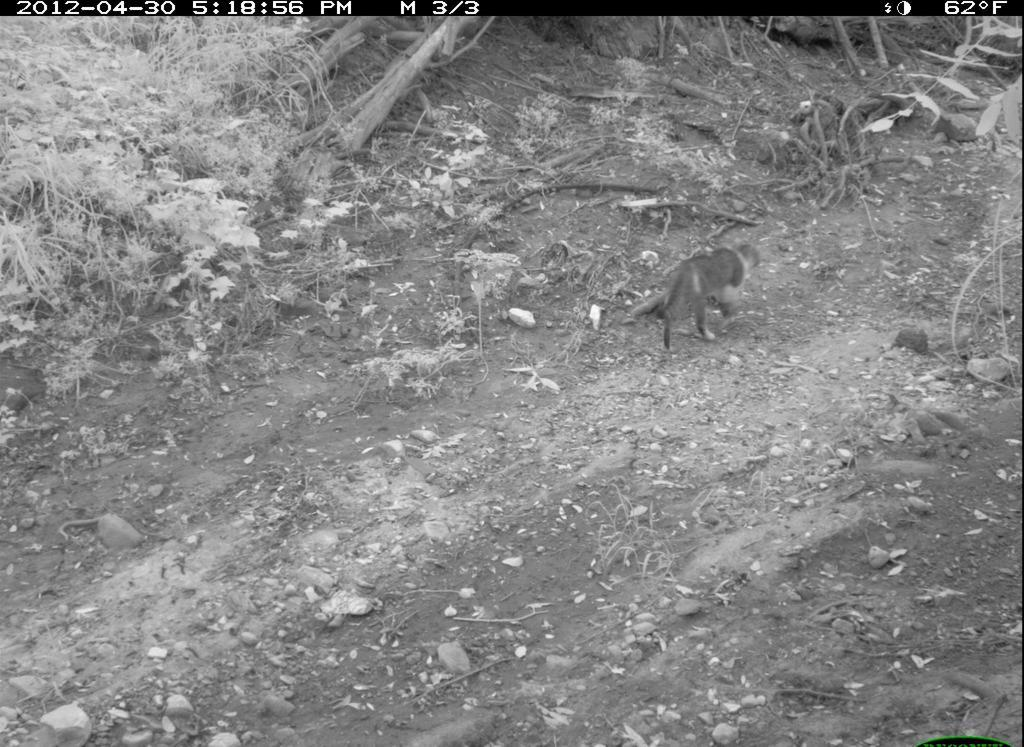cat: (643, 233, 771, 368)
